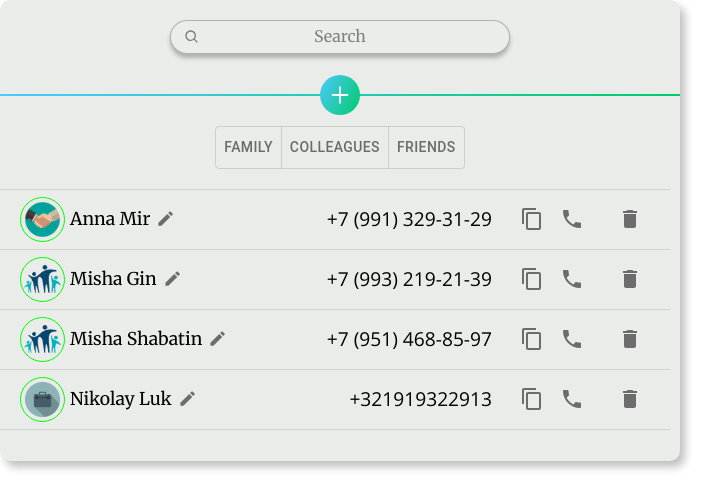
it: Contacts › should filter on friend
What coordinates should you click on to do the following:
click the button "Friends"
I would click on:
 (426, 147)
Its box is [388,126,465,168].
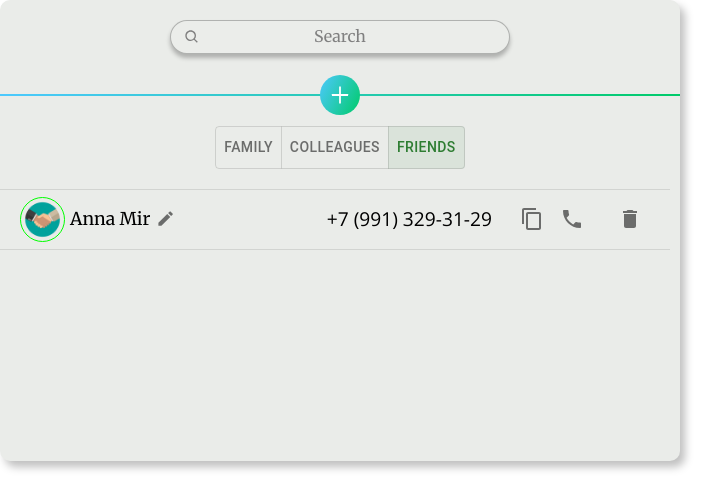
Expected: the number of elements with test id "contact" is 1, [0,188,670,250]
